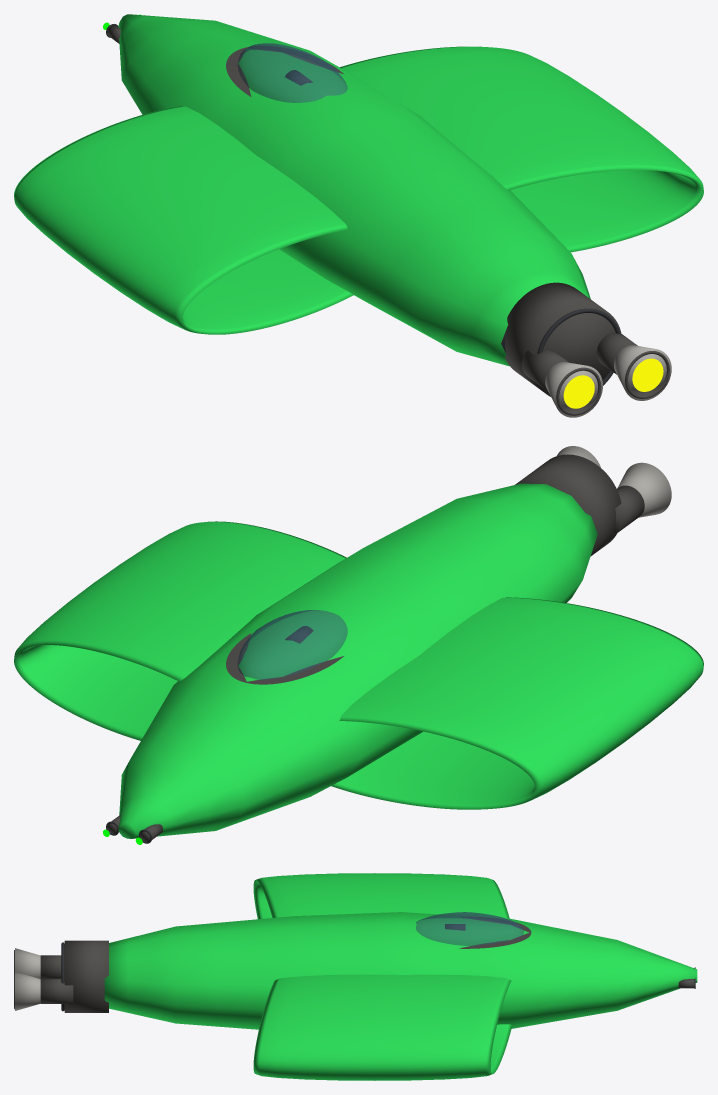
The model's file is Ship_TwoHoop_961380.glb.
3 views of the same model, one above another, from view 1: azimuth 30°, elevation 25°; view 2: azimuth 150°, elevation 25°; view 3: azimuth 270°, elevation 25° (orthographic). The views are drawn at different scales.
Parts seen in each view (by area): view 1: Fuselage_MainCenteredHull_CenterOfMassAtOrigin, Hoop_Left_StructuralRing_YAxisHole_CenterTangent_AftSwept, Hoop_Right_StructuralRing_YAxisHole_CenterTangent_AftSwept, EngineBlock_AftHullIntegratedMountPlate, CanopyGlass_LowForwardPodDome, EngineEmitter, EngineBell_Left_AftHullBurnishedNozzle, EngineBell_Right_AftHullBurnishedNozzle, CanopyFrame_LowInsetOvalRim, EngineThroat_Left_AftHullDarkSocket, EngineThroat_Right_AftHullDarkSocket, EngineBlock_AftHullDarkTrimRing; view 2: Fuselage_MainCenteredHull_CenterOfMassAtOrigin, Hoop_Left_StructuralRing_YAxisHole_CenterTangent_AftSwept, Hoop_Right_StructuralRing_YAxisHole_CenterTangent_AftSwept, CanopyGlass_LowForwardPodDome, EngineBlock_AftHullIntegratedMountPlate, EngineBell_Left_AftHullBurnishedNozzle, CanopyFrame_LowInsetOvalRim, EngineThroat_Left_AftHullDarkSocket; view 3: Fuselage_MainCenteredHull_CenterOfMassAtOrigin, Hoop_Right_StructuralRing_YAxisHole_CenterTangent_AftSwept, Hoop_Left_StructuralRing_YAxisHole_CenterTangent_AftSwept, EngineBlock_AftHullIntegratedMountPlate, CanopyGlass_LowForwardPodDome, EngineBell_Right_AftHullBurnishedNozzle, EngineThroat_Right_AftHullDarkSocket, EngineBell_Left_AftHullBurnishedNozzle, CanopyFrame_LowInsetOvalRim, EngineThroat_Left_AftHullDarkSocket.
Boxes of the visible parts, x1,y1,x2,y2 form: Fuselage_MainCenteredHull_CenterOfMassAtOrigin: [118, 14, 590, 366]; Hoop_Left_StructuralRing_YAxisHole_CenterTangent_AftSwept: [14, 106, 353, 334]; Hoop_Right_StructuralRing_YAxisHole_CenterTangent_AftSwept: [340, 46, 703, 252]; EngineBlock_AftHullIntegratedMountPlate: [505, 282, 621, 396]; CanopyGlass_LowForwardPodDome: [237, 43, 347, 102]; EngineEmitter: [563, 358, 663, 408]; EngineBell_Left_AftHullBurnishedNozzle: [545, 362, 602, 417]; EngineBell_Right_AftHullBurnishedNozzle: [614, 345, 671, 400]; CanopyFrame_LowInsetOvalRim: [226, 46, 344, 96]; EngineThroat_Left_AftHullDarkSocket: [521, 349, 568, 390]; EngineThroat_Right_AftHullDarkSocket: [596, 332, 637, 374]; EngineBlock_AftHullDarkTrimRing: [537, 308, 620, 393]; Fuselage_MainCenteredHull_CenterOfMassAtOrigin: [118, 483, 597, 838]; Hoop_Left_StructuralRing_YAxisHole_CenterTangent_AftSwept: [331, 597, 703, 809]; Hoop_Right_StructuralRing_YAxisHole_CenterTangent_AftSwept: [14, 521, 346, 740]; CanopyGlass_LowForwardPodDome: [237, 610, 347, 679]; EngineBlock_AftHullIntegratedMountPlate: [515, 454, 621, 556]; EngineBell_Left_AftHullBurnishedNozzle: [617, 462, 671, 517]; CanopyFrame_LowInsetOvalRim: [226, 633, 343, 684]; EngineThroat_Left_AftHullDarkSocket: [612, 485, 644, 535]; Fuselage_MainCenteredHull_CenterOfMassAtOrigin: [104, 912, 697, 1029]; Hoop_Right_StructuralRing_YAxisHole_CenterTangent_AftSwept: [253, 974, 512, 1080]; Hoop_Left_StructuralRing_YAxisHole_CenterTangent_AftSwept: [253, 873, 509, 919]; EngineBlock_AftHullIntegratedMountPlate: [64, 940, 108, 1012]; CanopyGlass_LowForwardPodDome: [416, 912, 523, 945]; EngineBell_Right_AftHullBurnishedNozzle: [15, 971, 40, 1010]; EngineThroat_Right_AftHullDarkSocket: [40, 978, 73, 1003]; EngineBell_Left_AftHullBurnishedNozzle: [15, 948, 40, 978]; CanopyFrame_LowInsetOvalRim: [459, 917, 531, 948]; EngineThroat_Left_AftHullDarkSocket: [40, 955, 61, 978].
Size of the model in its own units: 4.01 by 1.06 by 6.26.
